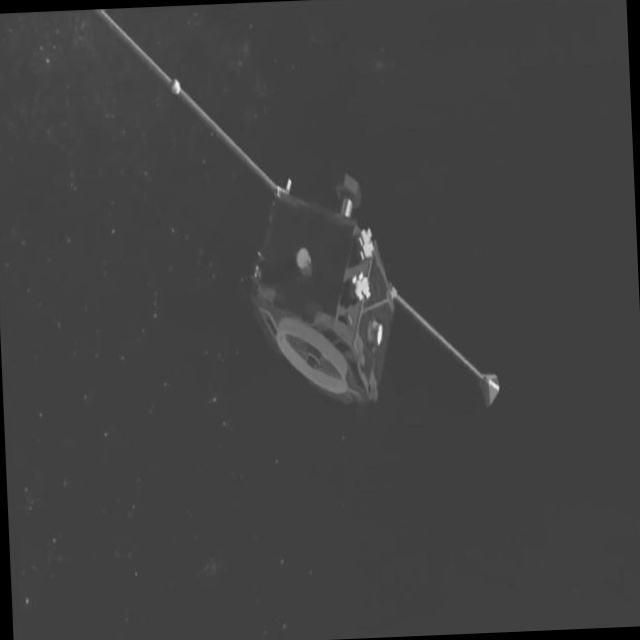satellite: (93, 0, 514, 441)
